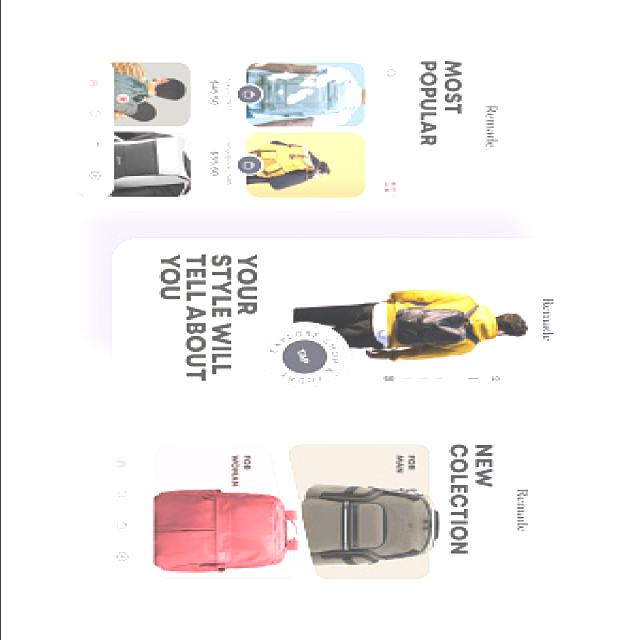backpack: (146, 479, 305, 576), (301, 478, 449, 570), (113, 137, 189, 194), (261, 72, 349, 119), (396, 304, 482, 347), (248, 143, 316, 179)
